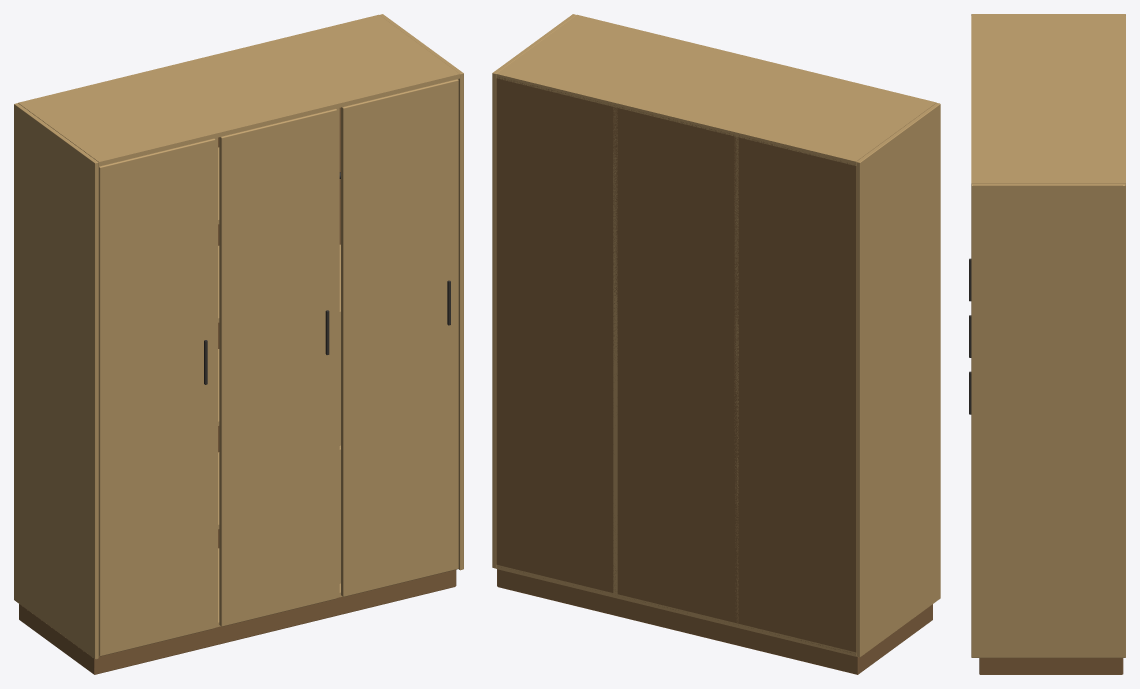
The model's file is wardrobe-three-bay.glb.
The picture shows the model from 3 angles, left to right: view 1: azimuth 30°, elevation 25°; view 2: azimuth 150°, elevation 25°; view 3: azimuth 270°, elevation 25°; orthographic projection. The views are drawn at different scales.
Parts seen in each view (by area): view 1: wardrobe-door-2, wardrobe-door-1, wardrobe-door-0, wardrobe-side-left, wardrobe-top, wardrobe-plinth, wardrobe-side-right, wardrobe-partition-1, wardrobe-partition-0; view 2: wardrobe-back, wardrobe-side-left, wardrobe-top, wardrobe-plinth, wardrobe-side-right, wardrobe-partition-1, wardrobe-bottom, wardrobe-partition-0; view 3: wardrobe-side-right, wardrobe-top, wardrobe-plinth, wardrobe-side-left.
Boxes of the visible parts, x1,y1,x2,y2 form: wardrobe-door-2: (341, 79, 458, 596); wardrobe-door-1: (219, 109, 336, 626); wardrobe-door-0: (99, 138, 215, 656); wardrobe-side-left: (14, 103, 98, 659); wardrobe-top: (18, 14, 459, 166); wardrobe-plinth: (19, 570, 456, 674); wardrobe-side-right: (379, 14, 463, 570); wardrobe-partition-1: (336, 108, 339, 593); wardrobe-partition-0: (214, 137, 217, 622); wardrobe-back: (496, 77, 856, 654); wardrobe-side-left: (856, 103, 940, 657); wardrobe-top: (496, 14, 936, 165); wardrobe-plinth: (497, 569, 932, 674); wardrobe-side-right: (492, 14, 575, 568); wardrobe-partition-1: (613, 107, 617, 593); wardrobe-bottom: (496, 564, 856, 656); wardrobe-partition-0: (734, 136, 738, 622); wardrobe-side-right: (971, 183, 1125, 657); wardrobe-top: (971, 15, 1125, 183); wardrobe-plinth: (979, 658, 1123, 674); wardrobe-side-left: (971, 14, 1125, 15).
Size of the model in its own units: 1.57 by 2.1 by 0.607.
